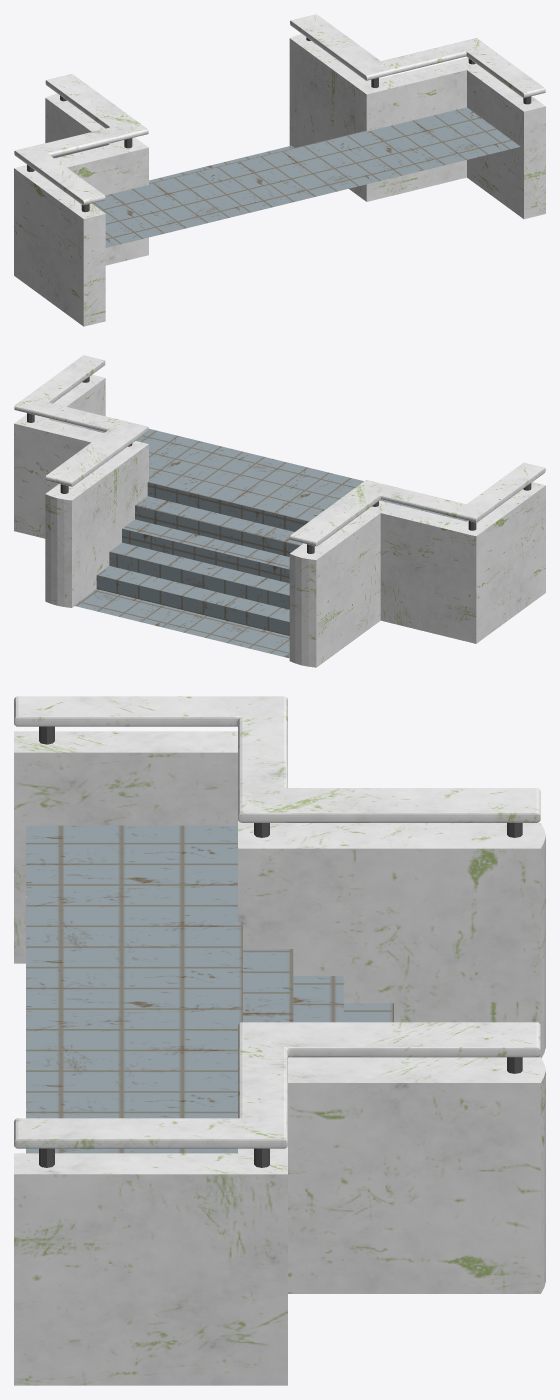
The picture shows the model from 3 angles, top to bottom: view 1: azimuth 30°, elevation 25°; view 2: azimuth 150°, elevation 25°; view 3: azimuth 270°, elevation 25°; orthographic projection. The views are drawn at different scales.
Parts seen in each view (by area): view 1: Escadaria; view 2: Escadaria; view 3: Escadaria.
Boxes of the visible parts, x1=… form: Escadaria: x1=14, y1=14, x2=545, y2=326; Escadaria: x1=14, y1=355, x2=545, y2=667; Escadaria: x1=14, y1=696, x2=545, y2=1385.
Size of the model in its own units: 629 by 163 by 319.
1 material, 1 textured.
